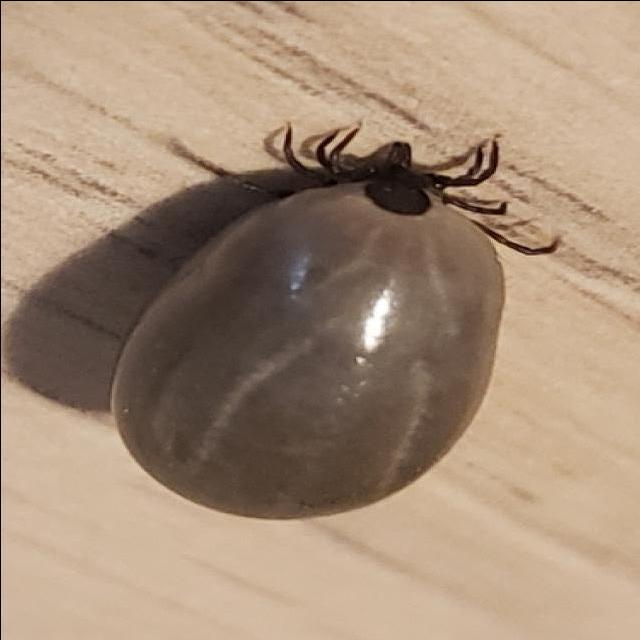Ixodes Ricinus-F-Fed: (109, 119, 561, 518)
